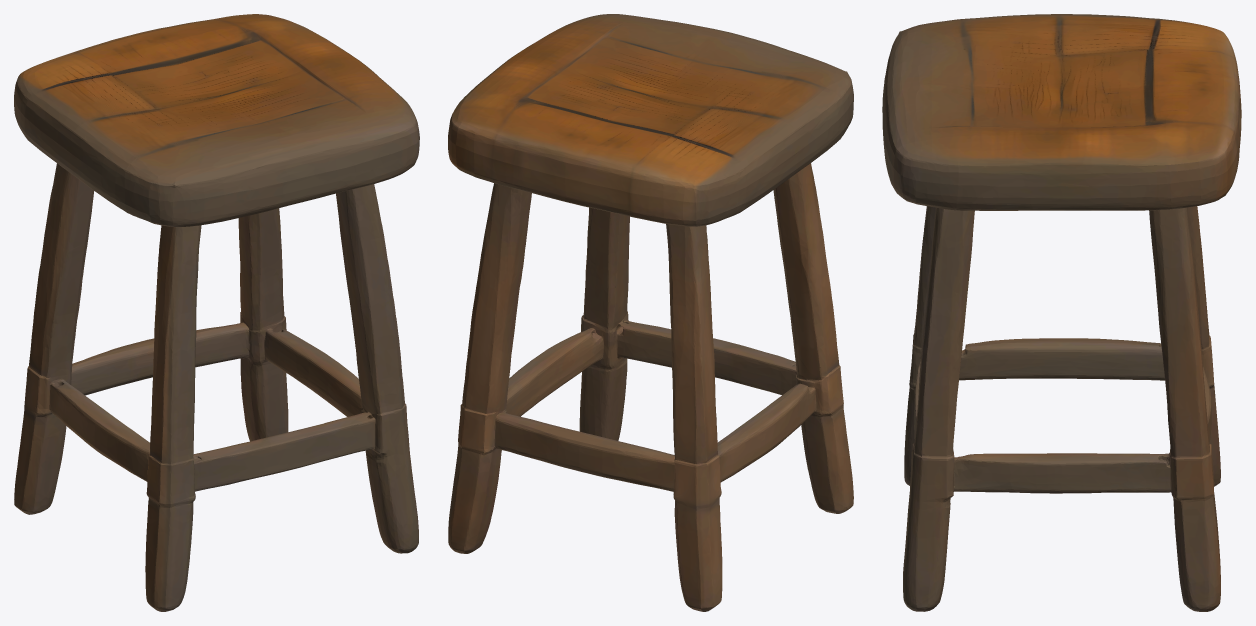
File: bar_stool_38.obj
3 views of the same model, side by side, from view 1: azimuth 30°, elevation 25°; view 2: azimuth 150°, elevation 25°; view 3: azimuth 270°, elevation 25° (orthographic). The views are drawn at different scales.
Bounding box in the file's own units: 0.4864 × 0.7 × 0.4879.
Materials: 1 (1 with a texture image).
